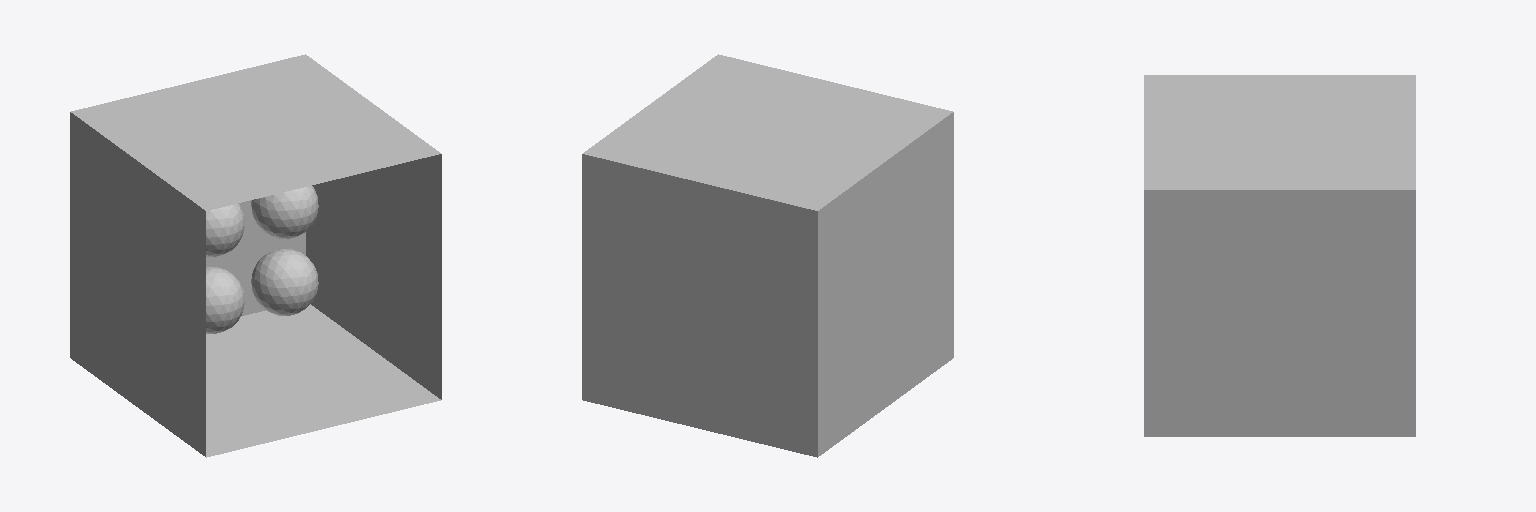
Rendered from Box_Metallic.obj.
3 views of the same model, side by side, from view 1: azimuth 30°, elevation 25°; view 2: azimuth 150°, elevation 25°; view 3: azimuth 270°, elevation 25° (orthographic).
Parts seen in each view (by area): view 1: Cube.001, Icosphere.007, Icosphere.001, Icosphere.006, Icosphere; view 2: Cube.001; view 3: Cube.001.
Part boxes in pixels (x1,y1,x2,y2): Cube.001: (70, 54, 441, 457); Icosphere.007: (251, 249, 318, 315); Icosphere.001: (251, 186, 318, 238); Icosphere.006: (206, 267, 244, 333); Icosphere: (206, 203, 244, 256); Cube.001: (582, 54, 953, 457); Cube.001: (1144, 75, 1415, 436).
Size of the model in its own units: 4 by 4 by 4.